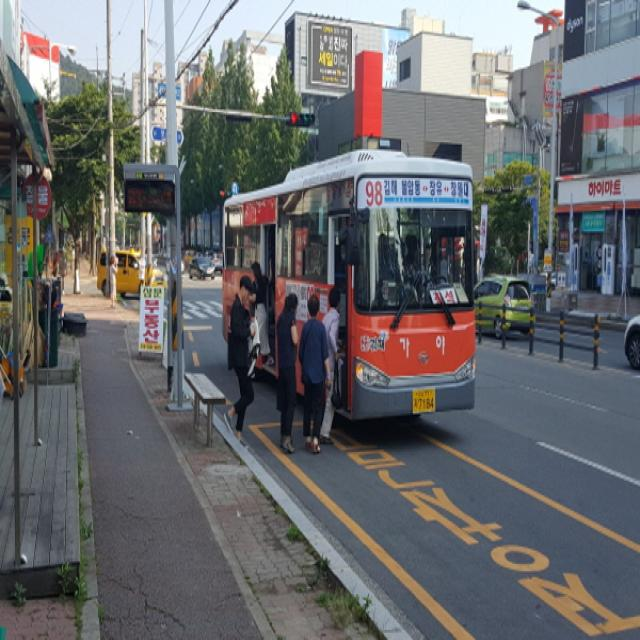bus-number: (365, 180, 383, 207)
